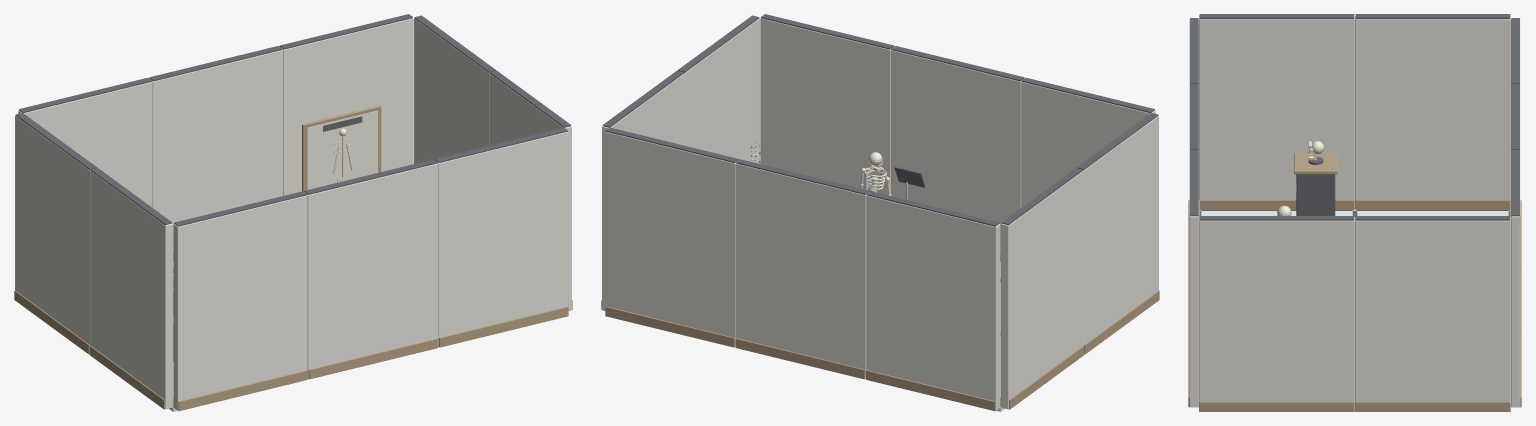
The model's file is human-anatomy-and-education-kit-study-corner-2db5ff4f__38979.glb.
3 views of the same model, side by side, from view 1: azimuth 30°, elevation 25°; view 2: azimuth 150°, elevation 25°; view 3: azimuth 270°, elevation 25° (orthographic). The views are drawn at different scales.
Visible parts, largest first — view 1: 009-wall-panel-2m/0, 010-wall-panel-2m/0, 011-wall-panel-2m/0, 007-wall-panel-2m/0, 013-wall-panel-2m/0, 008-wall-panel-2m/0, 012-wall-panel-2m/0, 014-wall-panel-2m/0, 006-wall-panel-2m/0, 021-wall-chart-skeleton/2, 015-wall-panel-2m/0, 010-wall-panel-2m/1 (+15 smaller); view 2: 006-wall-panel-2m/0, 007-wall-panel-2m/0, 008-wall-panel-2m/0, 010-wall-panel-2m/0, 011-wall-panel-2m/0, 012-wall-panel-2m/0, 013-wall-panel-2m/0, 015-wall-panel-2m/0, 009-wall-panel-2m/0, 014-wall-panel-2m/0, 007-wall-panel-2m/1, 008-wall-panel-2m/1 (+14 smaller); view 3: 014-wall-panel-2m/0, 015-wall-panel-2m/0, 012-wall-panel-2m/0, 013-wall-panel-2m/0, 008-wall-panel-2m/0, 011-wall-panel-2m/0, 014-wall-panel-2m/1, 015-wall-panel-2m/1, 019-display-plinth-tall/0, 012-wall-panel-2m/1, 013-wall-panel-2m/1, 019-display-plinth-tall/1 (+12 smaller).
Part boxes in pixels (x1,y1,x2,y2): 009-wall-panel-2m/0: (173, 195, 307, 410); 010-wall-panel-2m/0: (305, 163, 438, 378); 011-wall-panel-2m/0: (435, 131, 568, 346); 007-wall-panel-2m/0: (149, 50, 282, 250); 013-wall-panel-2m/0: (90, 171, 172, 409); 008-wall-panel-2m/0: (280, 18, 413, 195); 012-wall-panel-2m/0: (15, 116, 90, 345); 014-wall-panel-2m/0: (414, 18, 489, 163); 006-wall-panel-2m/0: (18, 81, 152, 207); 021-wall-chart-skeleton/2: (307, 110, 377, 189); 015-wall-panel-2m/0: (489, 73, 571, 310); 010-wall-panel-2m/1: (308, 338, 438, 379); 006-wall-panel-2m/0: (866, 195, 1000, 410); 007-wall-panel-2m/0: (735, 163, 868, 378); 008-wall-panel-2m/0: (605, 131, 738, 346); 010-wall-panel-2m/0: (891, 50, 1024, 250); 011-wall-panel-2m/0: (760, 18, 893, 195); 012-wall-panel-2m/0: (1001, 171, 1083, 409); 013-wall-panel-2m/0: (1083, 116, 1158, 345); 015-wall-panel-2m/0: (684, 18, 759, 163); 009-wall-panel-2m/0: (1021, 81, 1155, 207); 014-wall-panel-2m/0: (602, 73, 684, 310); 007-wall-panel-2m/1: (735, 338, 865, 379); 008-wall-panel-2m/1: (605, 306, 734, 347); 014-wall-panel-2m/0: (1355, 217, 1510, 410); 015-wall-panel-2m/0: (1199, 217, 1354, 410); 012-wall-panel-2m/0: (1355, 15, 1510, 208); 013-wall-panel-2m/0: (1199, 15, 1354, 208); 008-wall-panel-2m/0: (1511, 151, 1520, 407); 011-wall-panel-2m/0: (1189, 151, 1198, 407); 014-wall-panel-2m/1: (1355, 401, 1510, 411); 015-wall-panel-2m/1: (1199, 401, 1354, 411); 019-display-plinth-tall/0: (1296, 174, 1335, 215); 012-wall-panel-2m/1: (1355, 200, 1509, 209); 013-wall-panel-2m/1: (1200, 200, 1354, 209); 019-display-plinth-tall/1: (1294, 153, 1337, 174).
Bounding box in the file's own units: 6.27 × 2.78 × 4.27.
